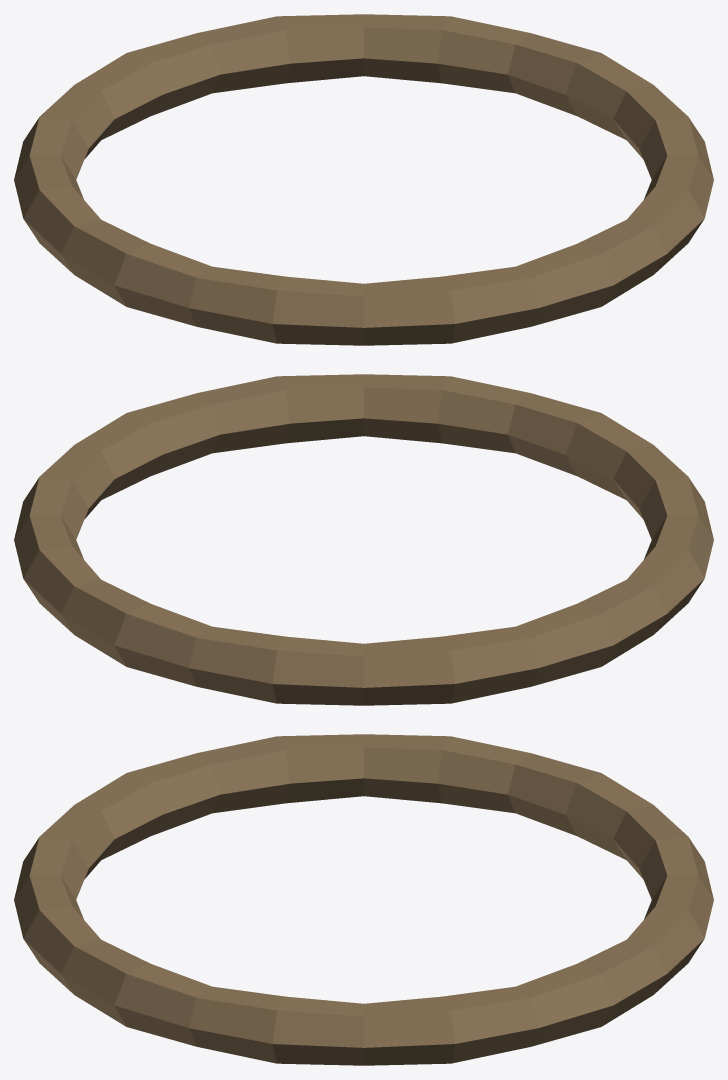
The model's file is radiation_shield.glb.
3 renders of one model, top to bottom at view 1: azimuth 30°, elevation 25°; view 2: azimuth 150°, elevation 25°; view 3: azimuth 270°, elevation 25°, orthographic.
Visible parts, largest first — view 1: radiation_shield__RadShield; view 2: radiation_shield__RadShield; view 3: radiation_shield__RadShield.
Part boxes in pixels (left/top/right/bottom): radiation_shield__RadShield: left=14, top=14, right=713, bottom=345; radiation_shield__RadShield: left=14, top=374, right=713, bottom=705; radiation_shield__RadShield: left=14, top=734, right=713, bottom=1065.
Bounding box in the file's own units: 4.5 × 0.3777 × 4.5.
